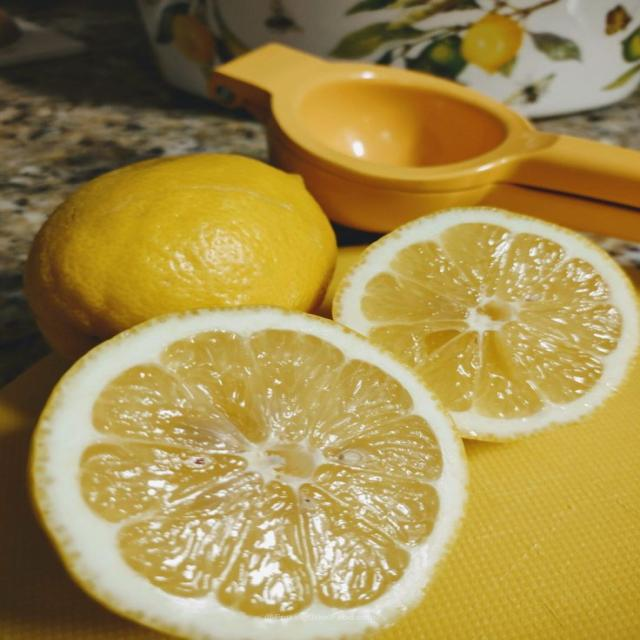lemon: (32, 308, 466, 639), (334, 208, 638, 439), (25, 154, 336, 357), (460, 14, 523, 73), (172, 15, 215, 64)
